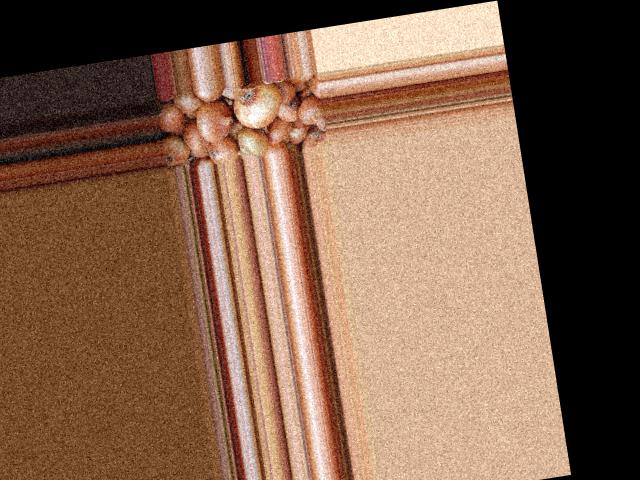onion: (160, 133, 190, 165)
